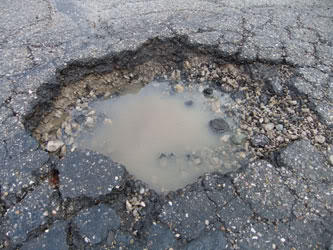pothole: (17, 28, 316, 197)
